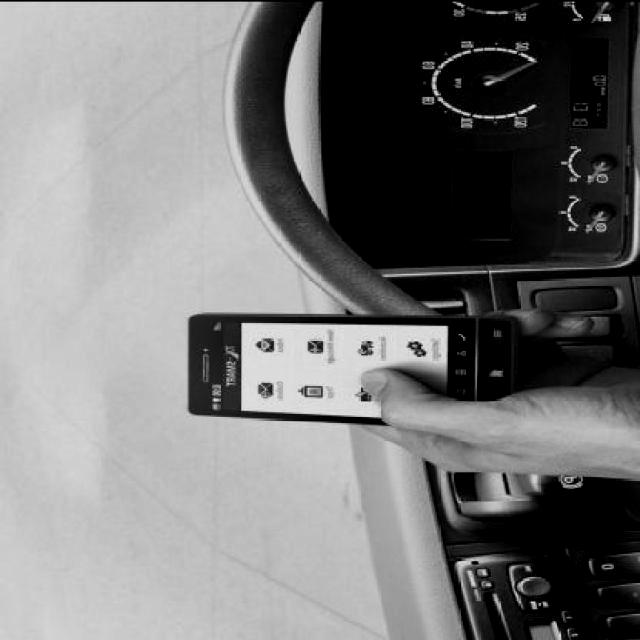fake: (174, 308, 534, 430)
